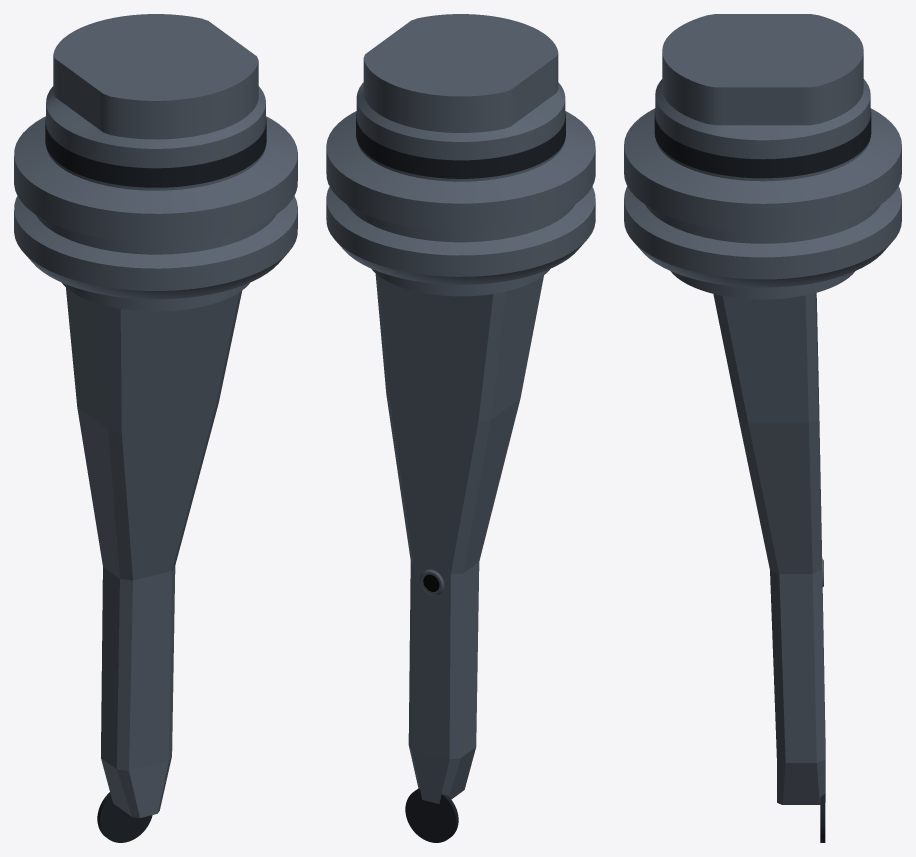
File: wheel_straight_20.obj
The picture shows the model from 3 angles, left to right: view 1: azimuth 30°, elevation 25°; view 2: azimuth 150°, elevation 25°; view 3: azimuth 270°, elevation 25°; orthographic projection. The views are drawn at different scales.
Parts seen in each view (by area): view 1: wheel_straight_20_stepped_coupling.002, wheel_straight_20_faceted_blade.002, wheel_straight_20_locking_collar.002, wheel_straight_20_seat.005; view 2: wheel_straight_20_stepped_coupling.002, wheel_straight_20_faceted_blade.002, wheel_straight_20_locking_collar.002, wheel_straight_20_seat.005; view 3: wheel_straight_20_stepped_coupling.002, wheel_straight_20_faceted_blade.002, wheel_straight_20_locking_collar.002.
Boxes of the visible parts, <box> form: wheel_straight_20_stepped_coupling.002: <box>14,14,297,311</box>; wheel_straight_20_faceted_blade.002: <box>66,287,242,817</box>; wheel_straight_20_locking_collar.002: <box>45,118,266,187</box>; wheel_straight_20_seat.005: <box>97,792,152,842</box>; wheel_straight_20_stepped_coupling.002: <box>326,14,595,296</box>; wheel_straight_20_faceted_blade.002: <box>375,274,543,803</box>; wheel_straight_20_locking_collar.002: <box>356,112,565,178</box>; wheel_straight_20_seat.005: <box>405,788,458,842</box>; wheel_straight_20_stepped_coupling.002: <box>624,14,901,299</box>; wheel_straight_20_faceted_blade.002: <box>713,293,825,804</box>; wheel_straight_20_locking_collar.002: <box>654,109,871,178</box>.
Size of the model in its own units: 80 by 251 by 80.
